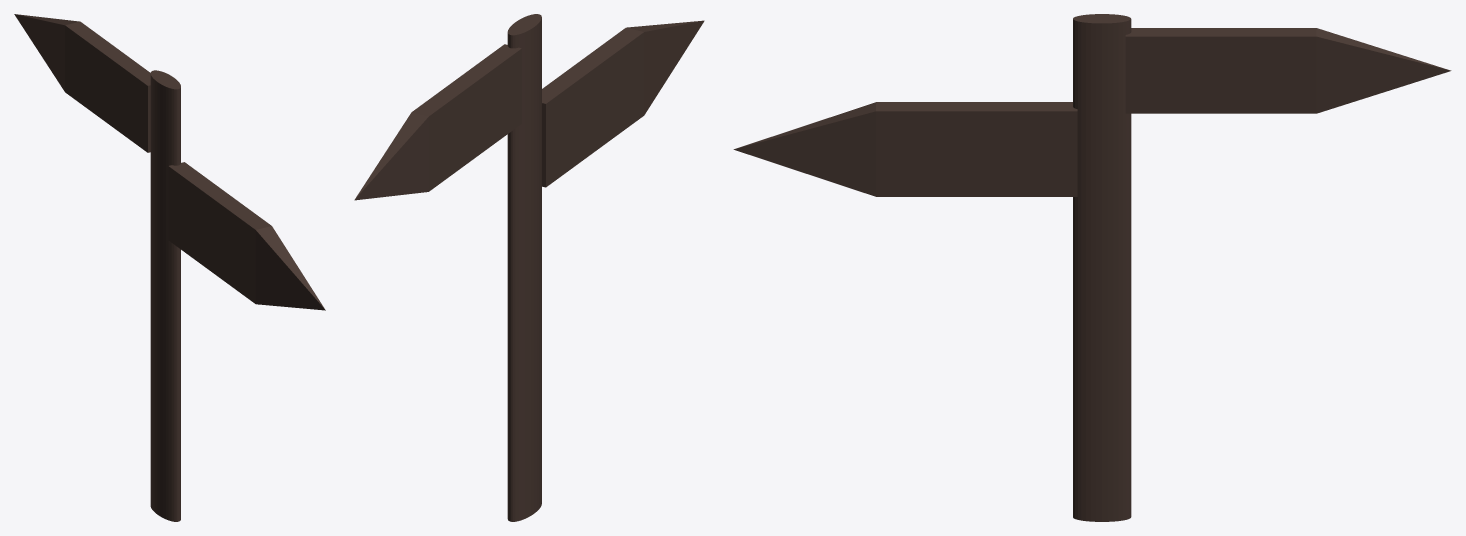
File: SM_Sign_2_Way.fbx
3 renders of one model, left to right at view 1: azimuth 30°, elevation 25°; view 2: azimuth 150°, elevation 25°; view 3: azimuth 270°, elevation 25°, orthographic. The views are drawn at different scales.
Parts seen in each view (by area): view 1: Cylinder, Cube.001, Cube; view 2: Cylinder, Cube.001, Cube; view 3: Cylinder, Cube.001, Cube.
Boxes of the visible parts, left/top/right/bottom form: Cylinder: left=150, top=70, right=180, bottom=521; Cube.001: left=168, top=162, right=325, bottom=310; Cube: left=14, top=14, right=150, bottom=152; Cylinder: left=507, top=14, right=541, bottom=521; Cube.001: left=542, top=20, right=704, bottom=187; Cube: left=354, top=44, right=521, bottom=200; Cylinder: left=1073, top=14, right=1131, bottom=521; Cube.001: left=733, top=102, right=1077, bottom=196; Cube: left=1125, top=28, right=1451, bottom=113.
Bounding box in the file's own units: 8.12 × 199 × 260.
